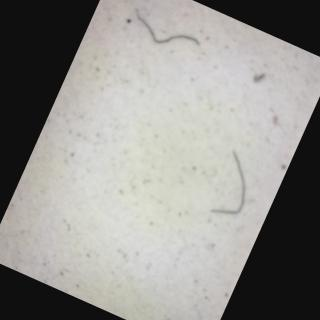Microplastic: (104, 0, 217, 73), (198, 138, 276, 240)
